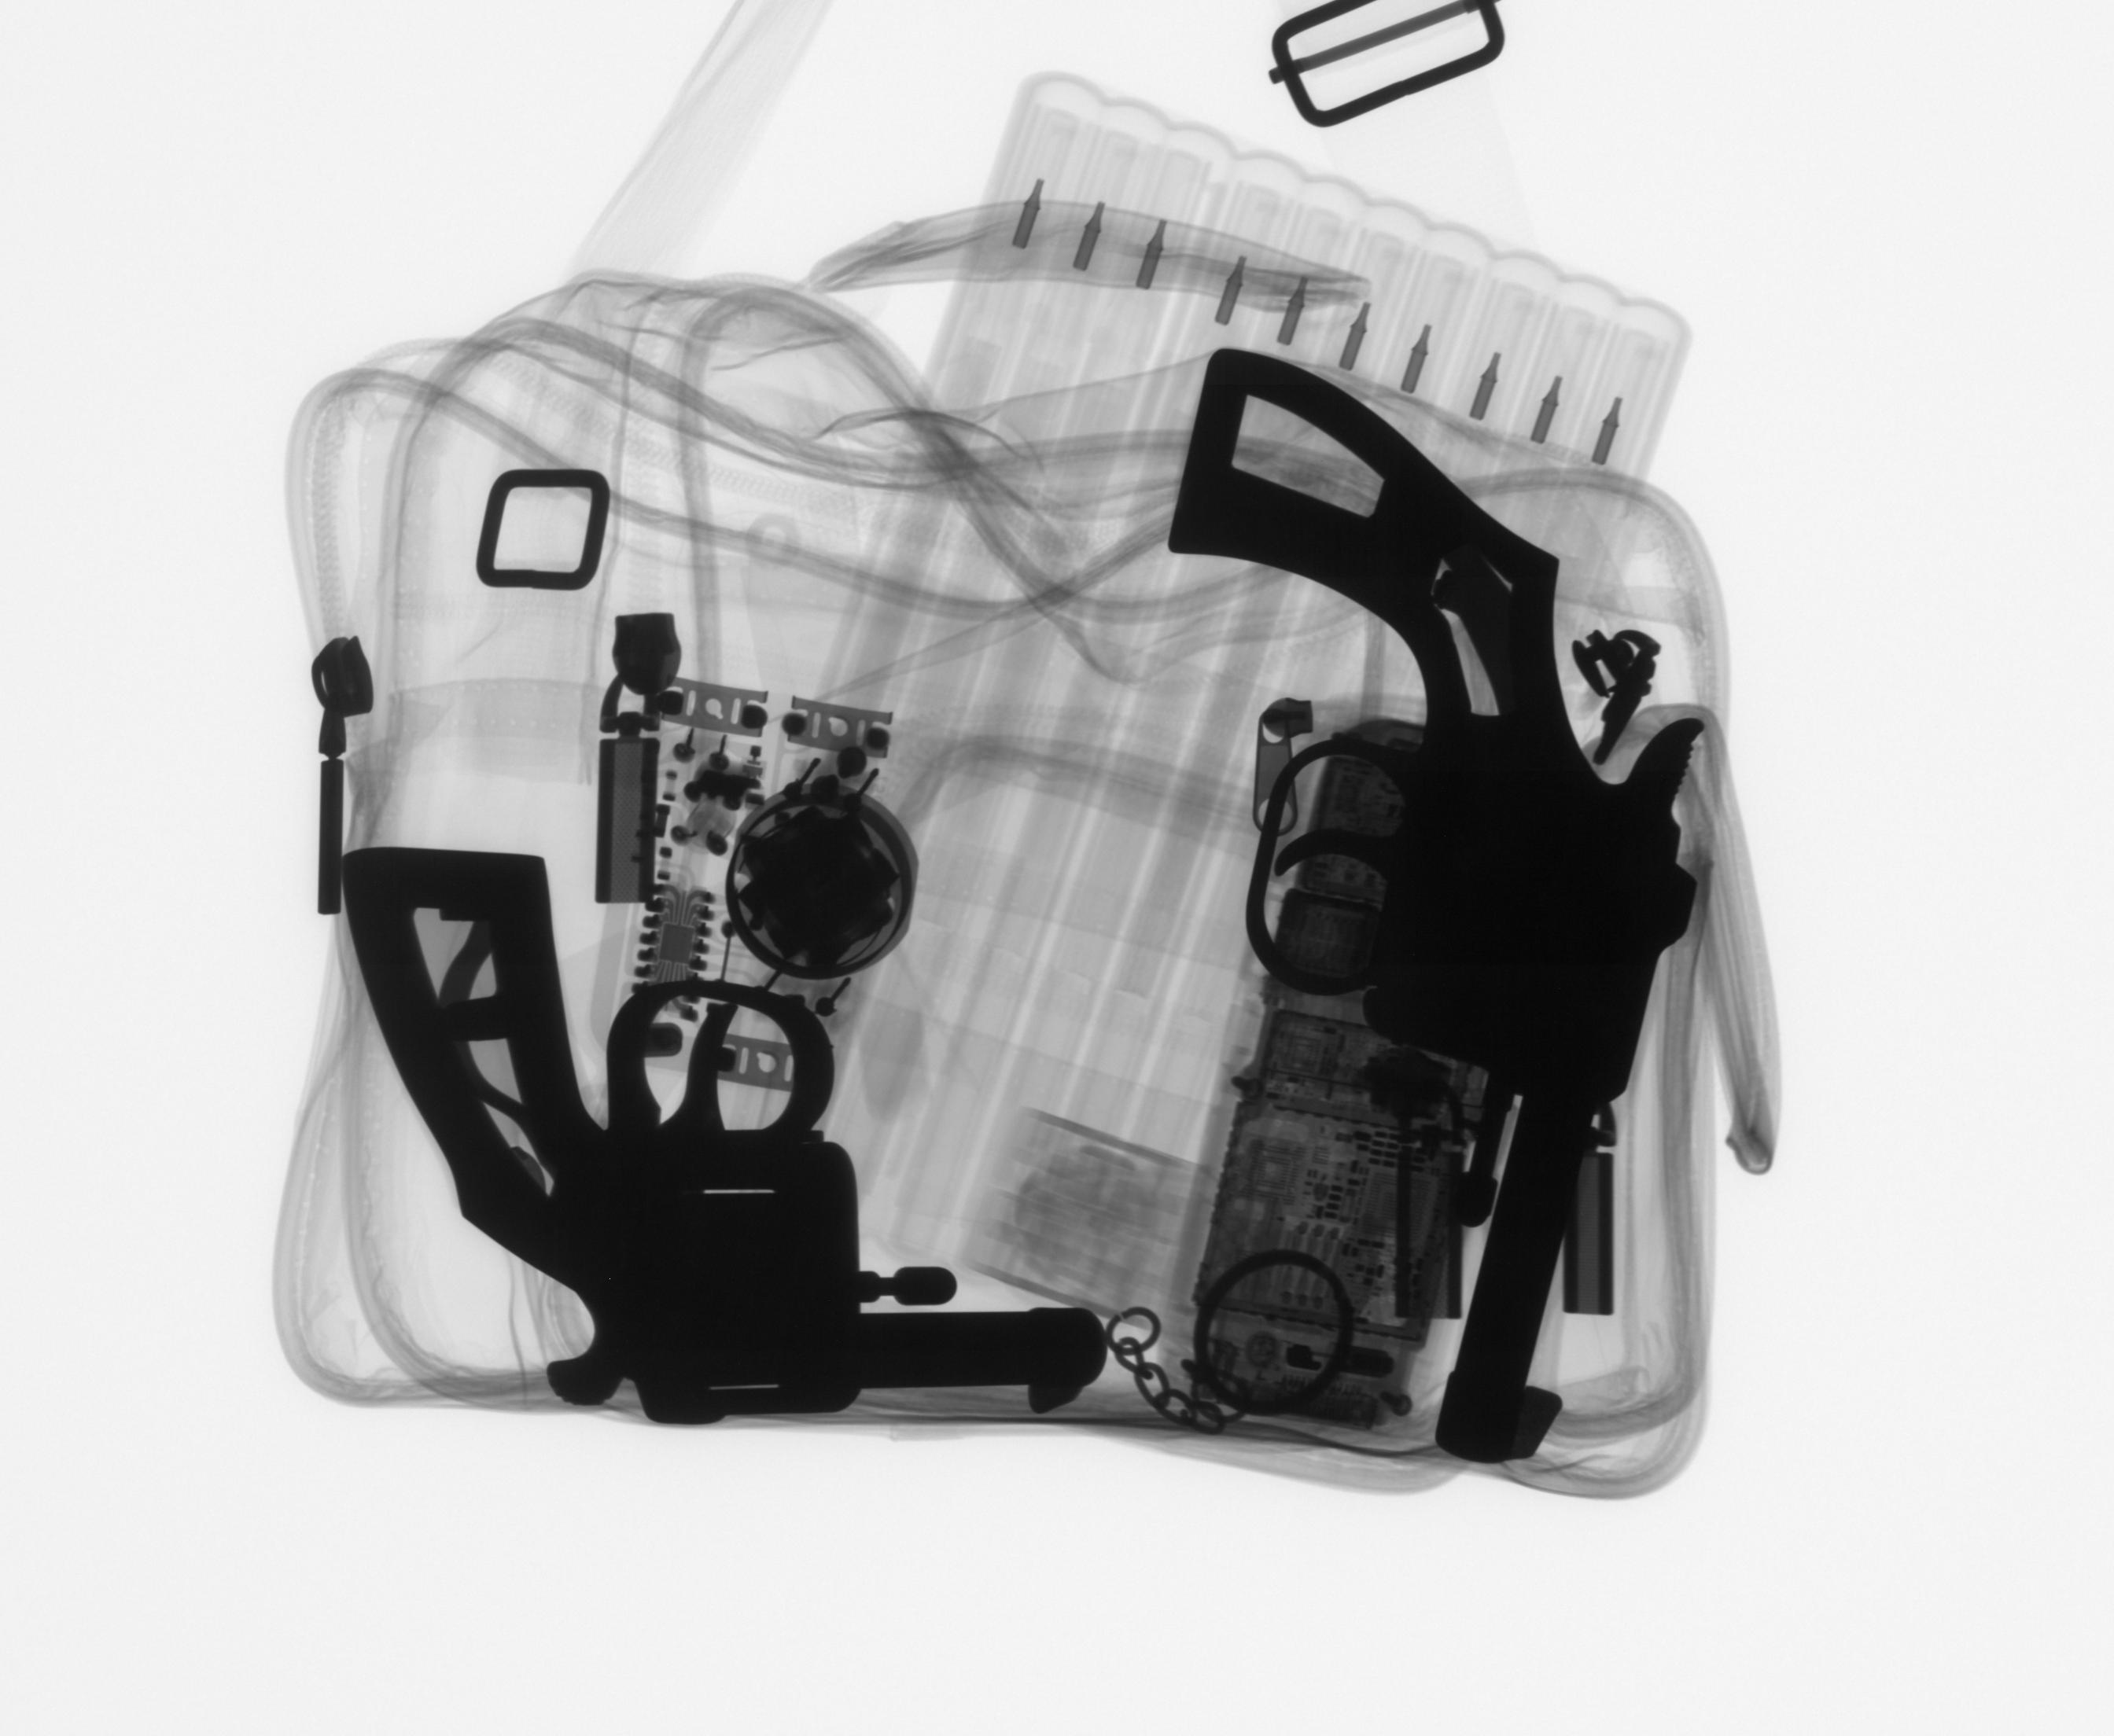Handgun: (1158, 340, 1723, 1474), (326, 840, 1119, 1435)
